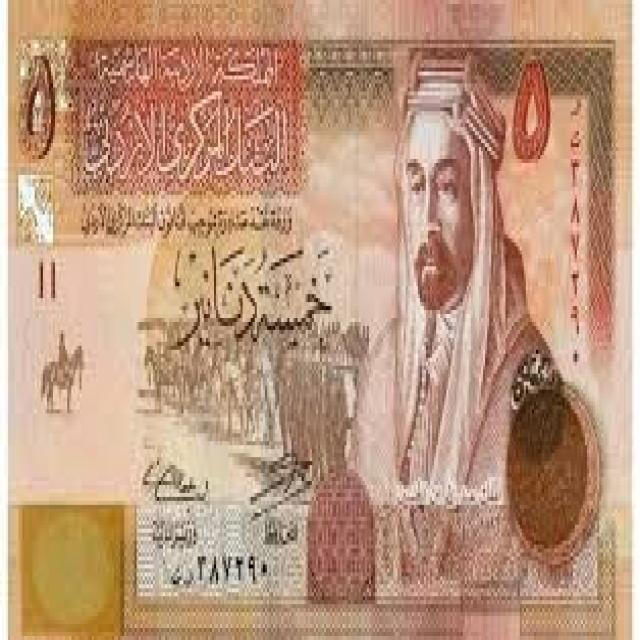5-dinar: (9, 0, 632, 640)
